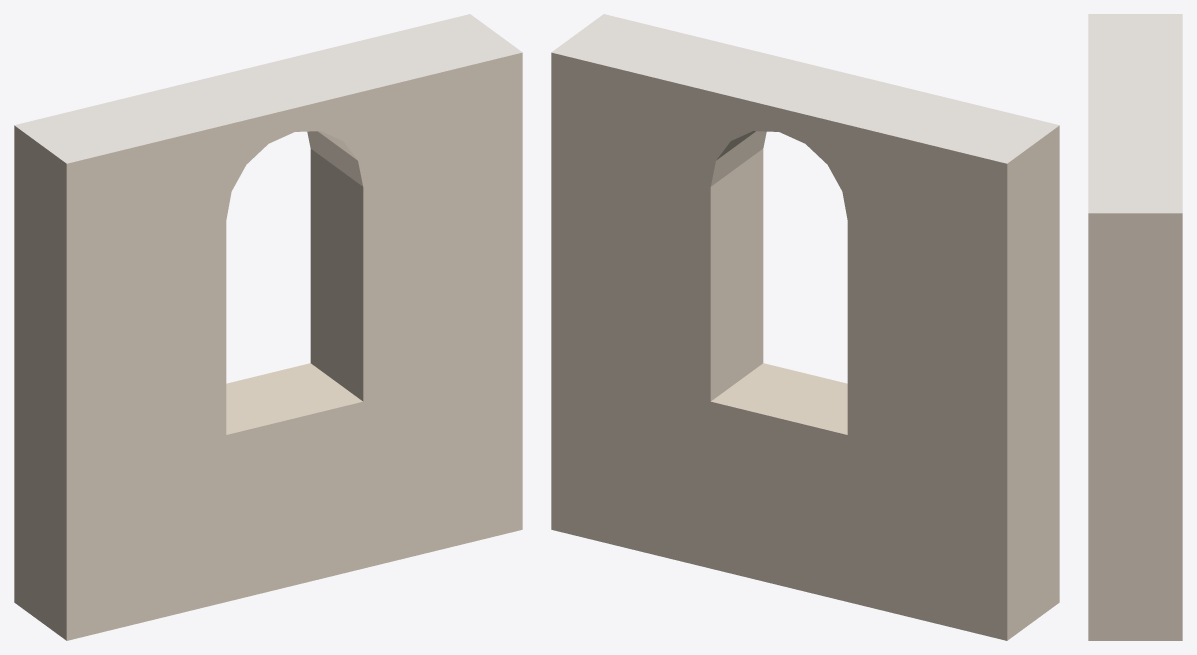
Rendered from Wall_Straight_Window.glb.
3 renders of one model, left to right at view 1: azimuth 30°, elevation 25°; view 2: azimuth 150°, elevation 25°; view 3: azimuth 270°, elevation 25°, orthographic. The views are drawn at different scales.
Visible parts, largest first — view 1: Wall_Straight_Window; view 2: Wall_Straight_Window; view 3: Wall_Straight_Window.
Part boxes in pixels (box(x1,y1,x2,y2)): Wall_Straight_Window: box(14, 14, 522, 640); Wall_Straight_Window: box(551, 14, 1059, 640); Wall_Straight_Window: box(1088, 14, 1182, 640).
Bounding box in the file's own units: 1 × 1 × 0.2.
